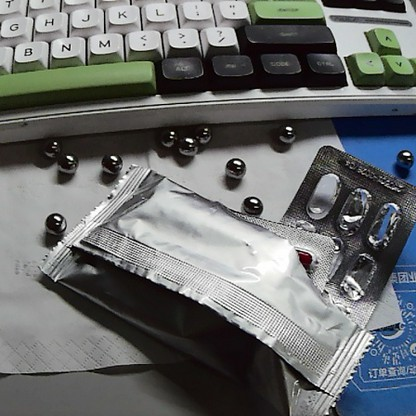ironball: (28, 130, 70, 165), (36, 206, 74, 233), (55, 148, 84, 179), (221, 155, 250, 184), (273, 118, 298, 145), (96, 150, 120, 175), (154, 123, 180, 145), (178, 137, 203, 159), (241, 192, 261, 217), (193, 119, 214, 140), (392, 149, 414, 167)
